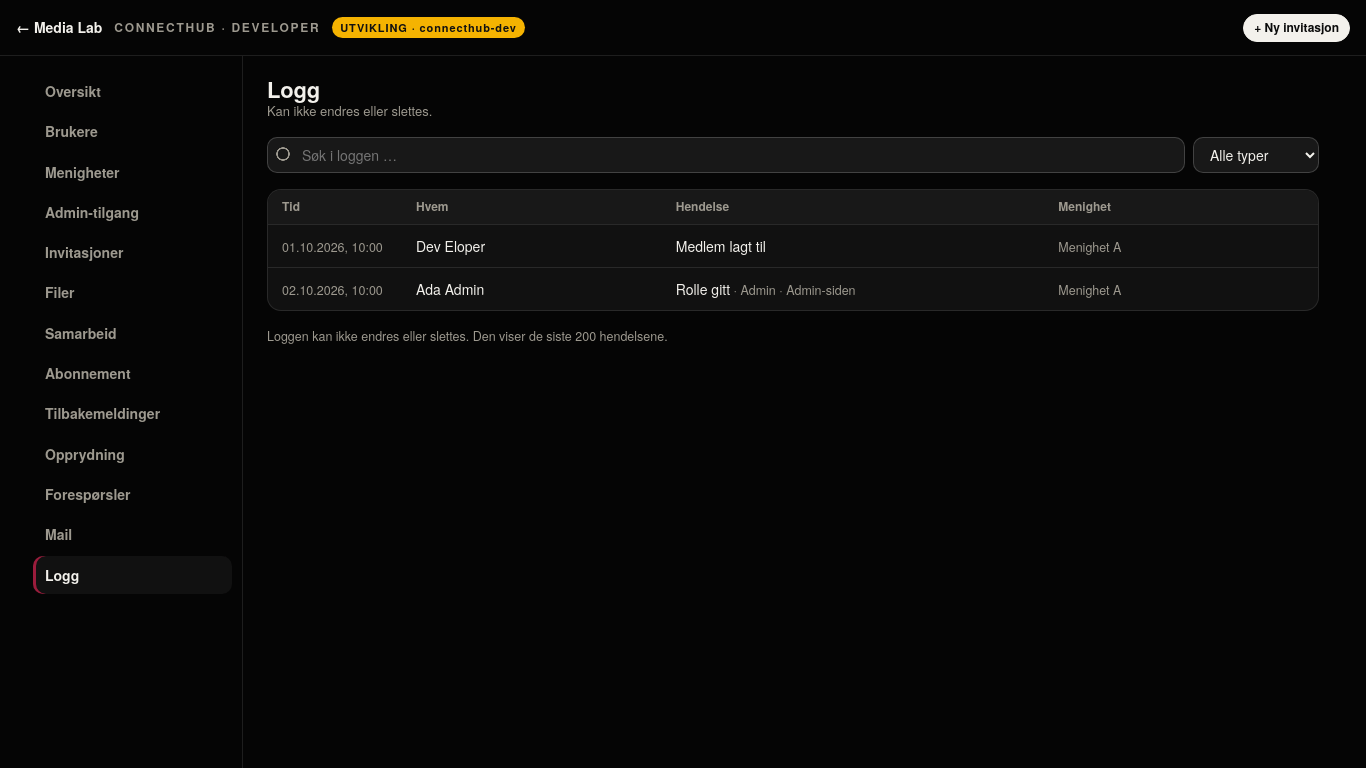
Test: Logg (ADM-10) › søk og type; navn på hendelser og hvem
Check: the text "Medlem lagt til" is shown, box [676,236,766,256]
Check: the text "Rolle gitt" is shown, box [676,279,730,299]
Select "Roller" in the dropdown named "Type": {"x": 1256, "y": 155} [1193,137,1319,173]
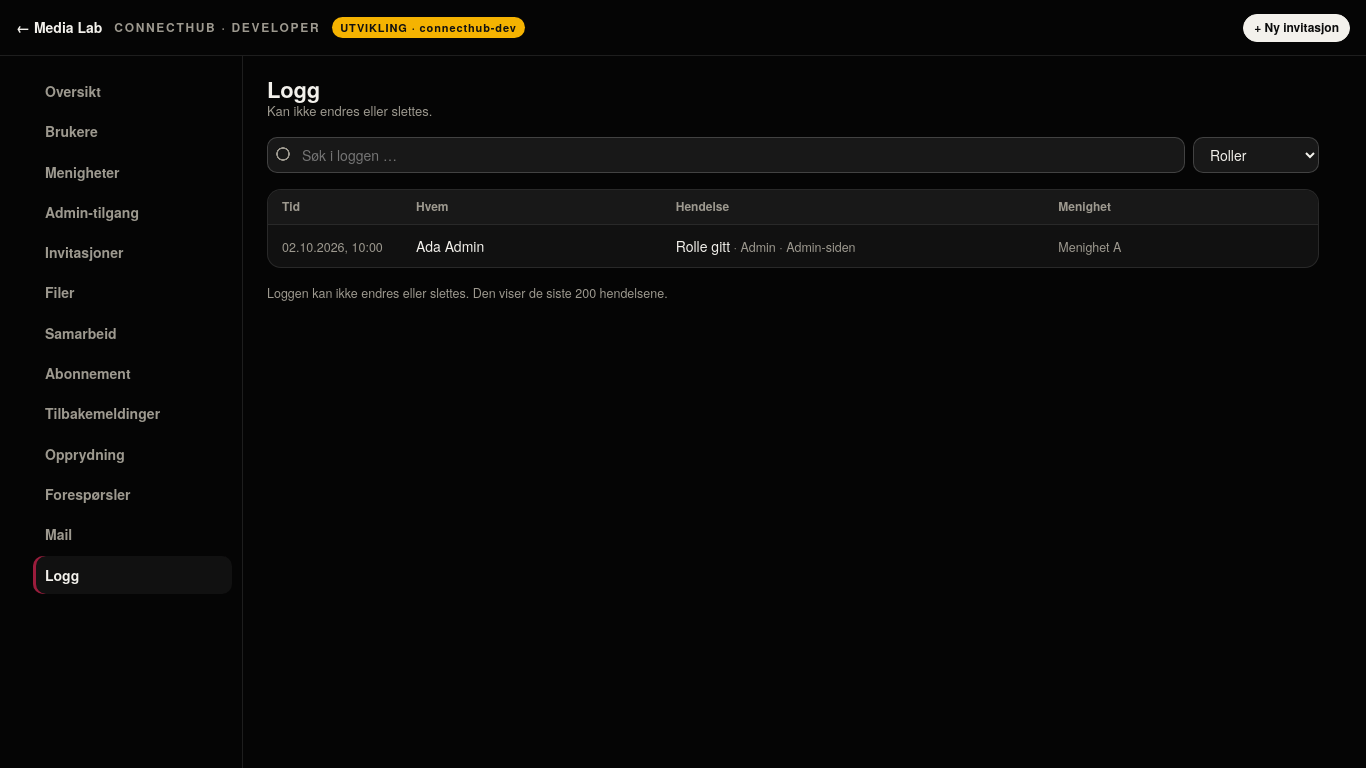
Check: the text "Medlem lagt til" is gone
Select "Alle typer" in the dropdown named "Type": {"x": 1256, "y": 155} [1193,137,1319,173]
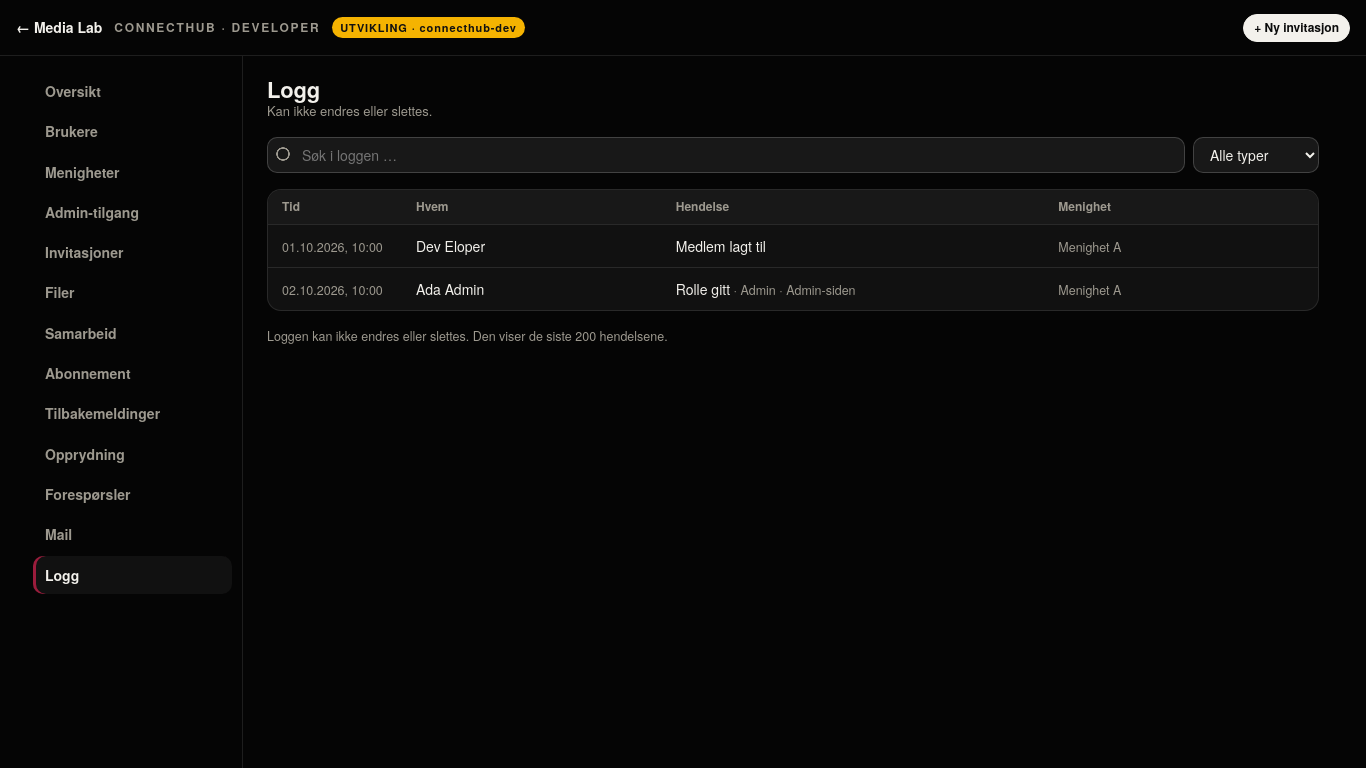
In the search field: {"x": 726, "y": 155} [267,137,1185,173], type "ada"
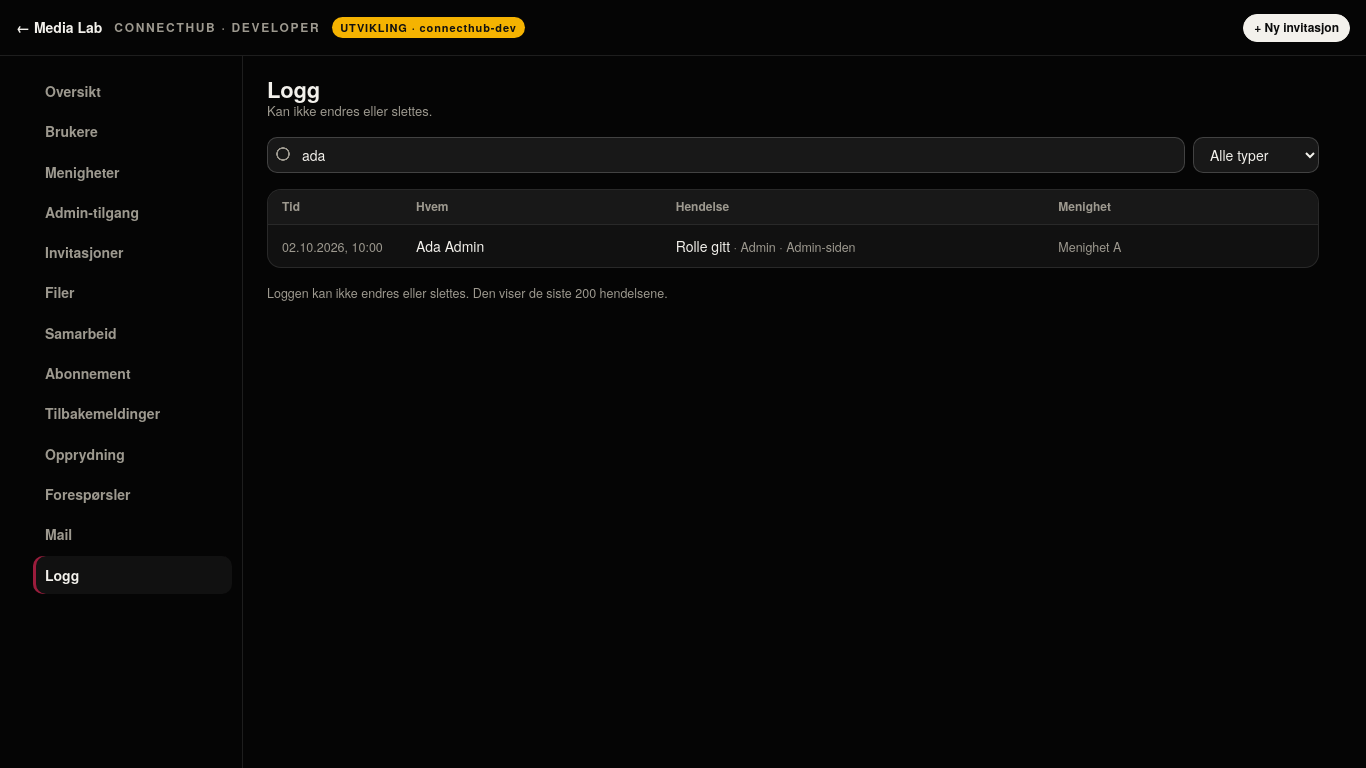
Check: the text "Rolle gitt" is shown, box [676,236,730,256]
Check: the text "Medlem lagt til" is gone
